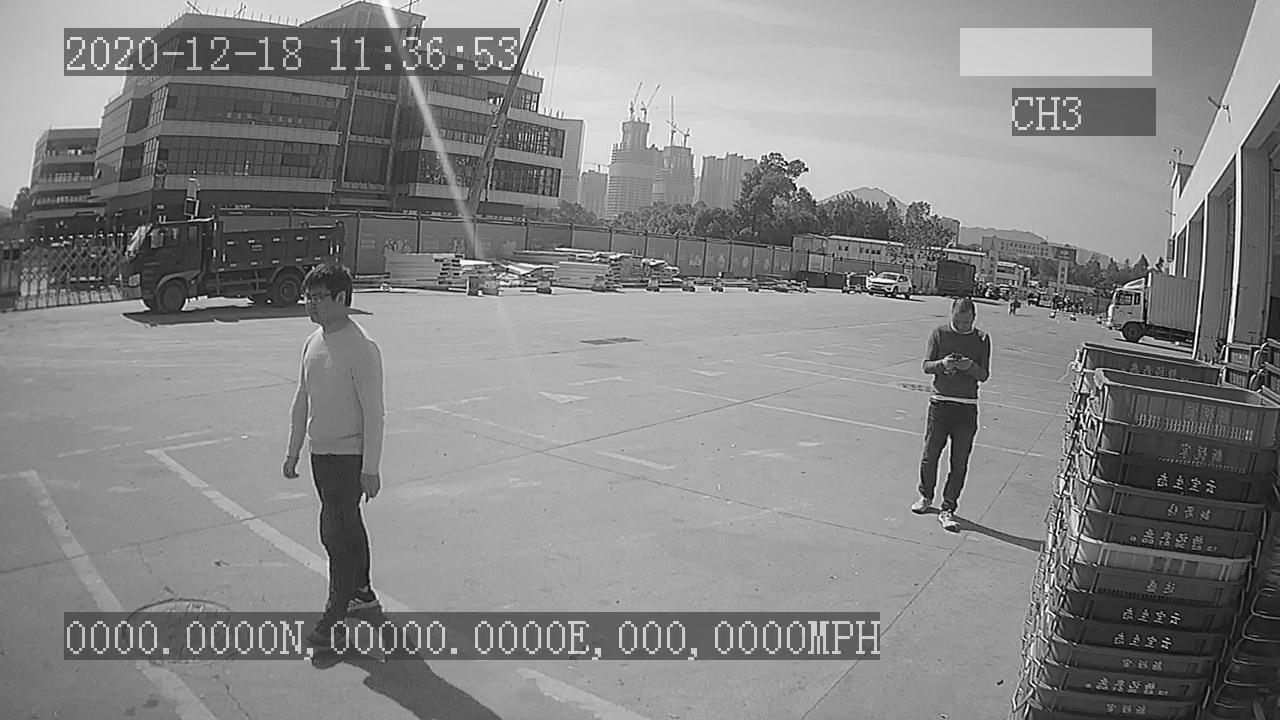person: (906, 295, 992, 533)
